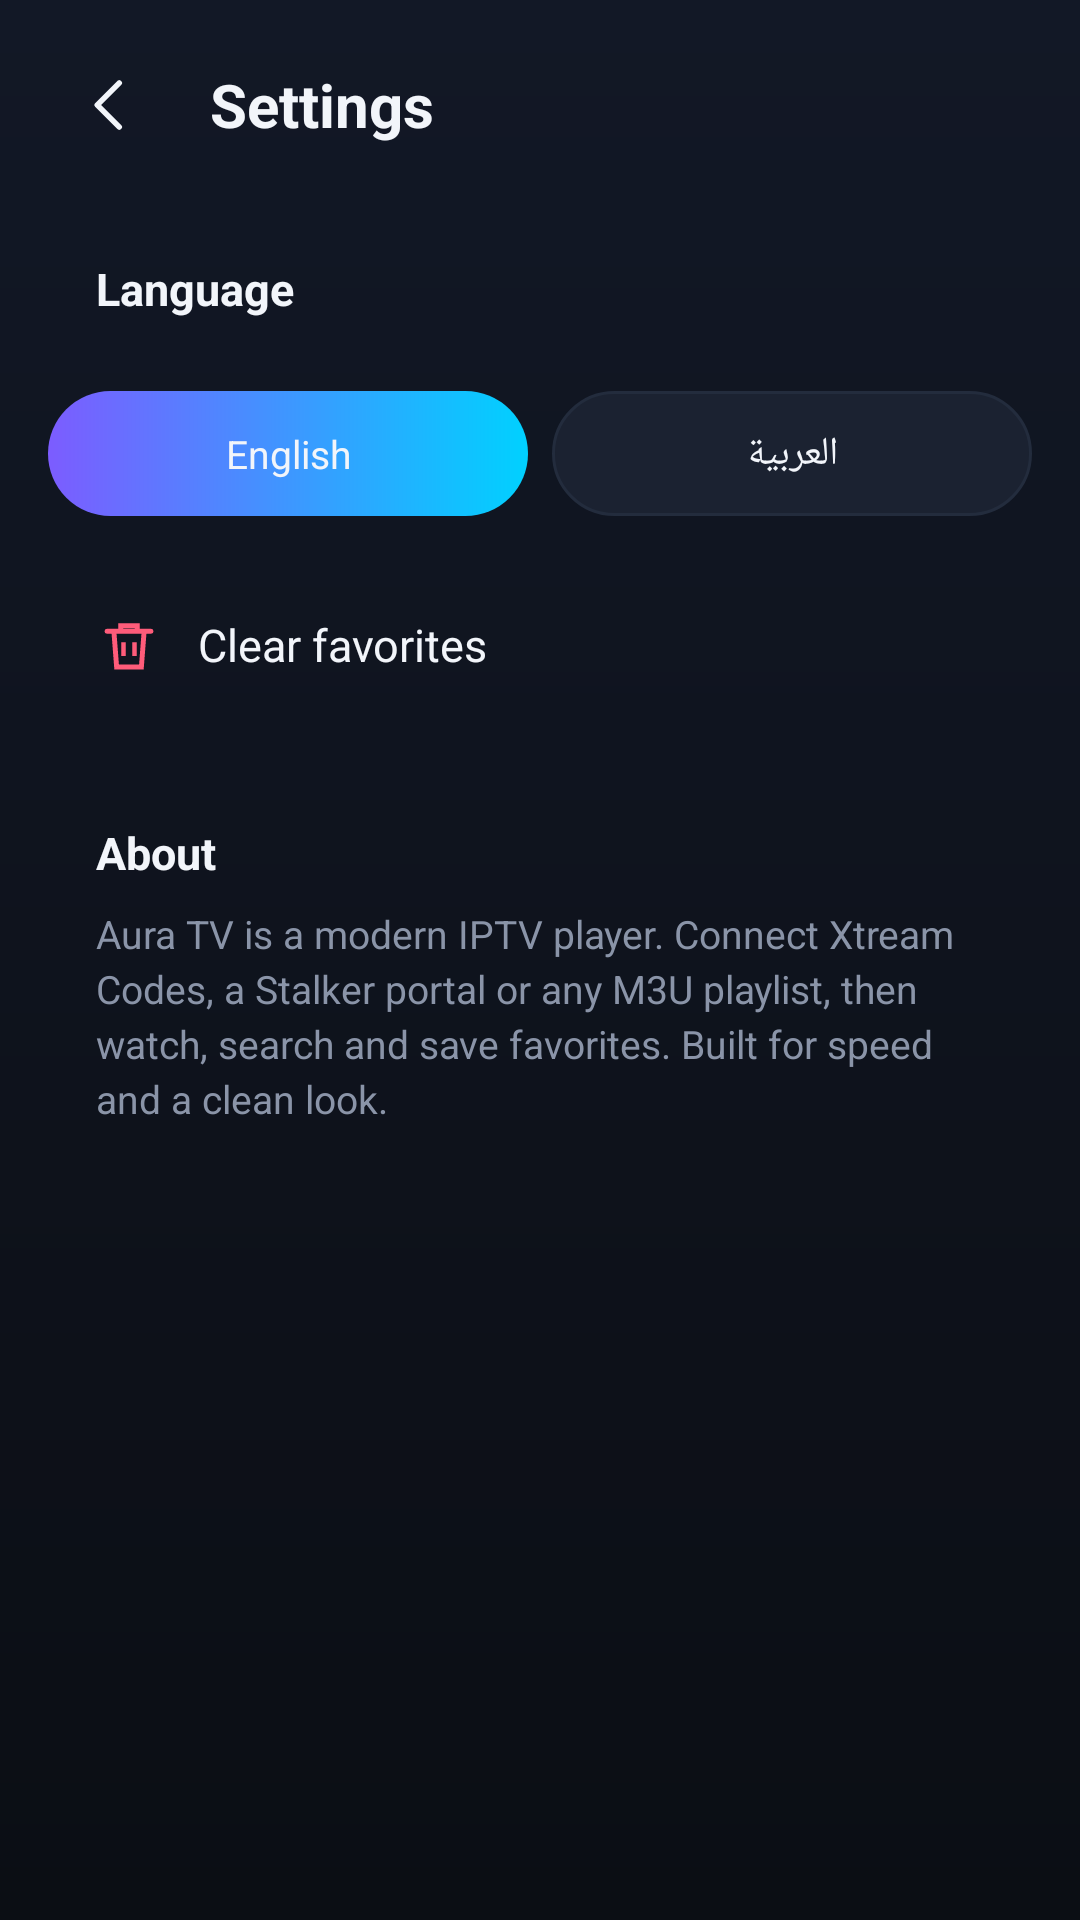

Where to tap for icons on this 1080w x 1920h app screen, as (x=x, y=y):
Back: (x=108, y=105)
trash: (x=129, y=646)
